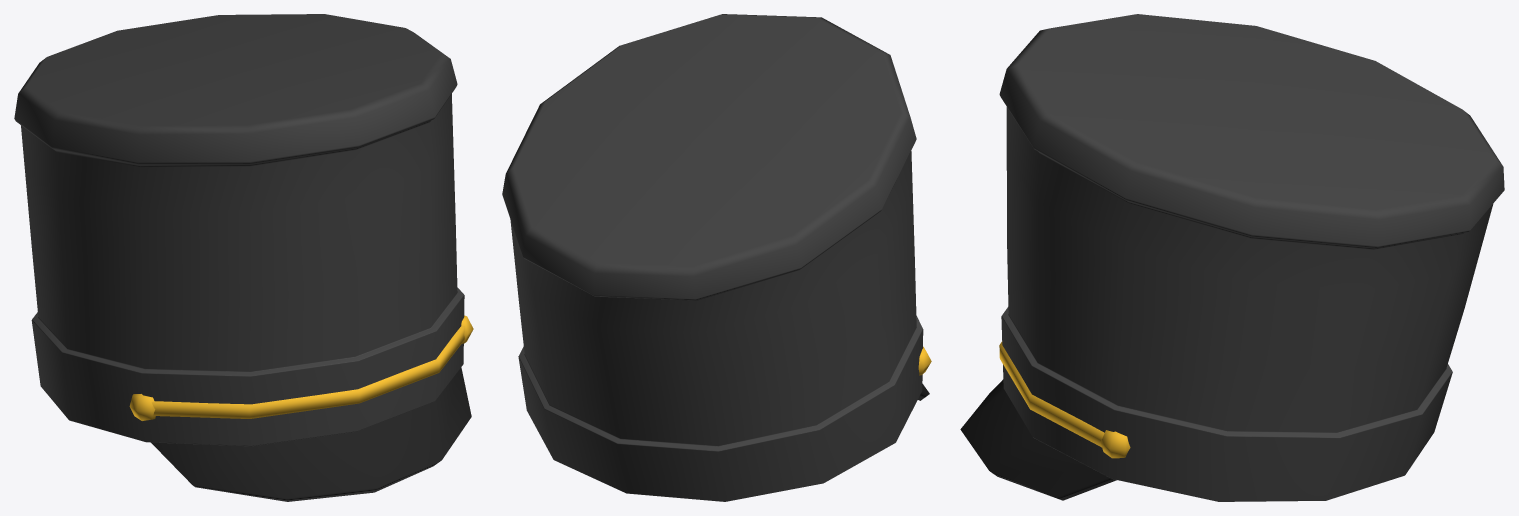
File: Hat_063.glb
3 renders of one model, left to right at view 1: azimuth 30°, elevation 25°; view 2: azimuth 150°, elevation 25°; view 3: azimuth 270°, elevation 25°, orthographic. The views are drawn at different scales.
Visible parts, largest first — view 1: Hat_063; view 2: Hat_063; view 3: Hat_063.
Boxes of the visible parts, bbox=[...] form: Hat_063: bbox=[14, 14, 473, 501]; Hat_063: bbox=[502, 14, 931, 501]; Hat_063: bbox=[960, 14, 1504, 501].
Size of the model in its own units: 0.4606 by 0.4342 by 0.5703.
1 material, 1 textured.
